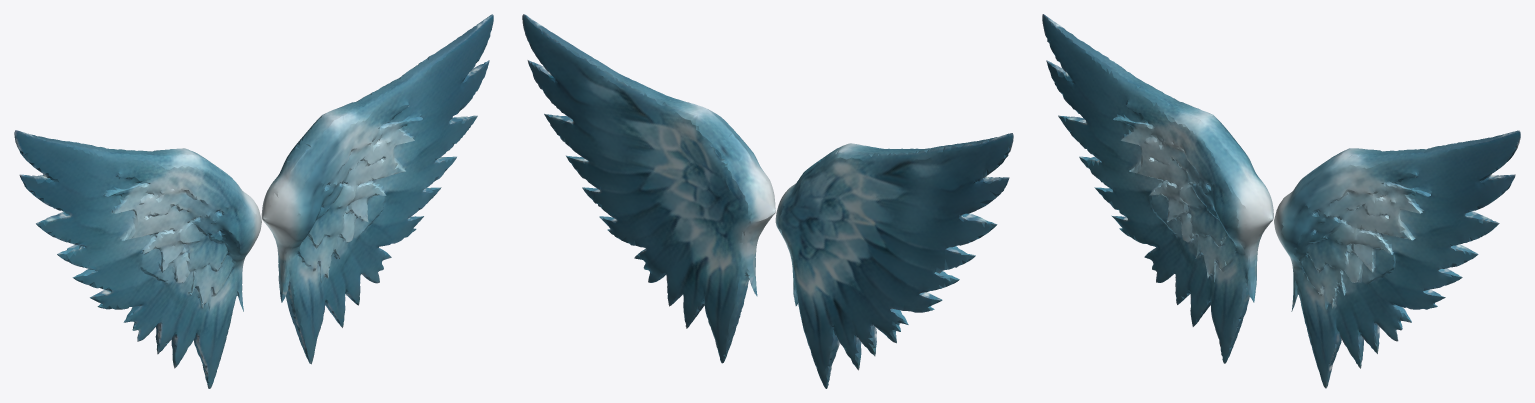
File: nova_wing_L.glb
The picture shows the model from 3 angles, left to right: view 1: azimuth 30°, elevation 25°; view 2: azimuth 150°, elevation 25°; view 3: azimuth 330°, elevation 25°; orthographic projection. The views are drawn at different scales.
Visible parts, largest first — view 1: nova_wing_L; view 2: nova_wing_L; view 3: nova_wing_L.
Boxes of the visible parts, <box> form: nova_wing_L: <box>14,14,493,388</box>; nova_wing_L: <box>522,14,1013,388</box>; nova_wing_L: <box>1042,14,1520,388</box>.
Bounding box in the file's own units: 1.9 × 1.13 × 0.1849.
Materials: 1 (1 with a texture image).
